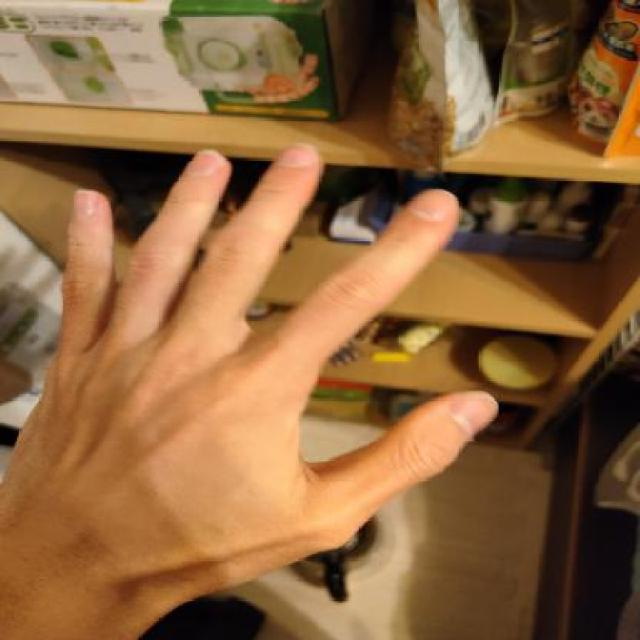bare_hand: (1, 128, 508, 610)
